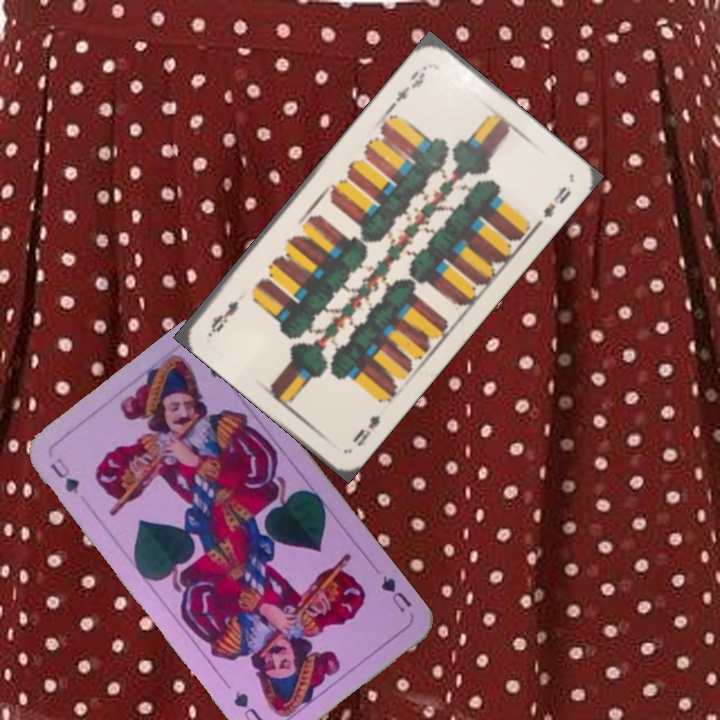E9: (387, 61, 430, 110), (348, 410, 384, 449)
GU: (376, 571, 414, 615), (45, 453, 83, 497)
